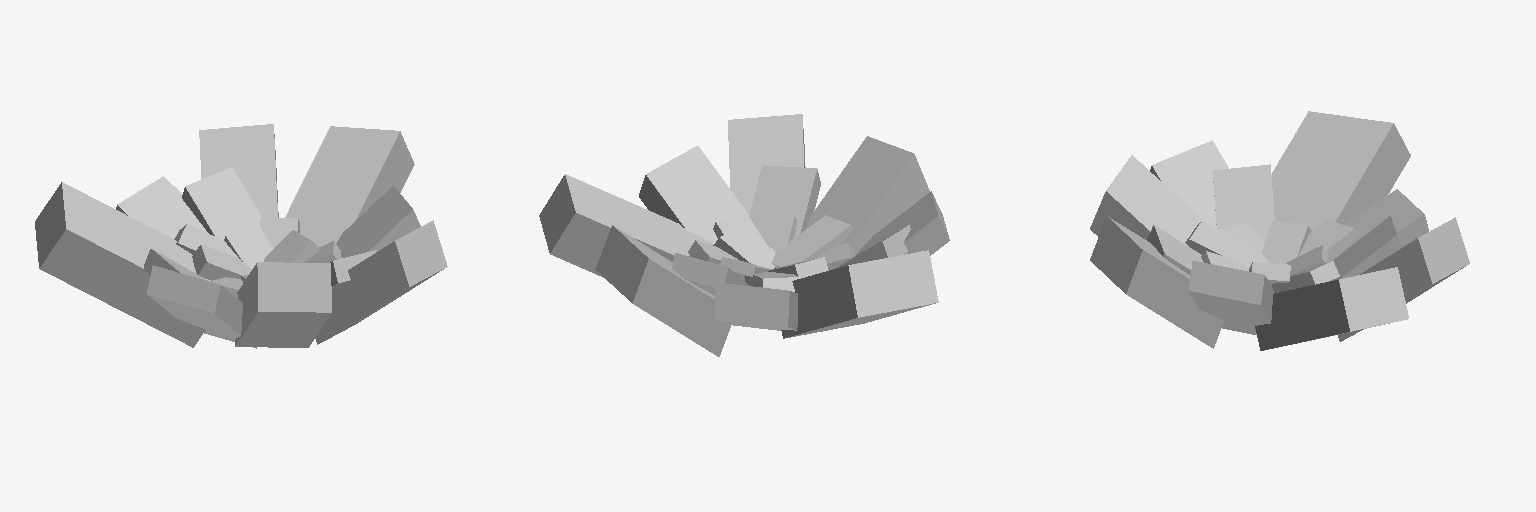
The model's file is SlamGraphics.obj.
The picture shows the model from 3 angles: view 1: azimuth 30°, elevation 25°; view 2: azimuth 150°, elevation 25°; view 3: azimuth 270°, elevation 25°; orthographic projection.
Parts seen in each view (by area): view 1: Cube.012_Cube.013; view 2: Cube.012_Cube.013; view 3: Cube.012_Cube.013.
Boxes of the visible parts, x1=… form: Cube.012_Cube.013: x1=35, y1=124, x2=447, y2=348; Cube.012_Cube.013: x1=539, y1=114, x2=949, y2=356; Cube.012_Cube.013: x1=1090, y1=111, x2=1469, y2=350.
Size of the model in its own units: 13.83 by 4.5 by 11.76.